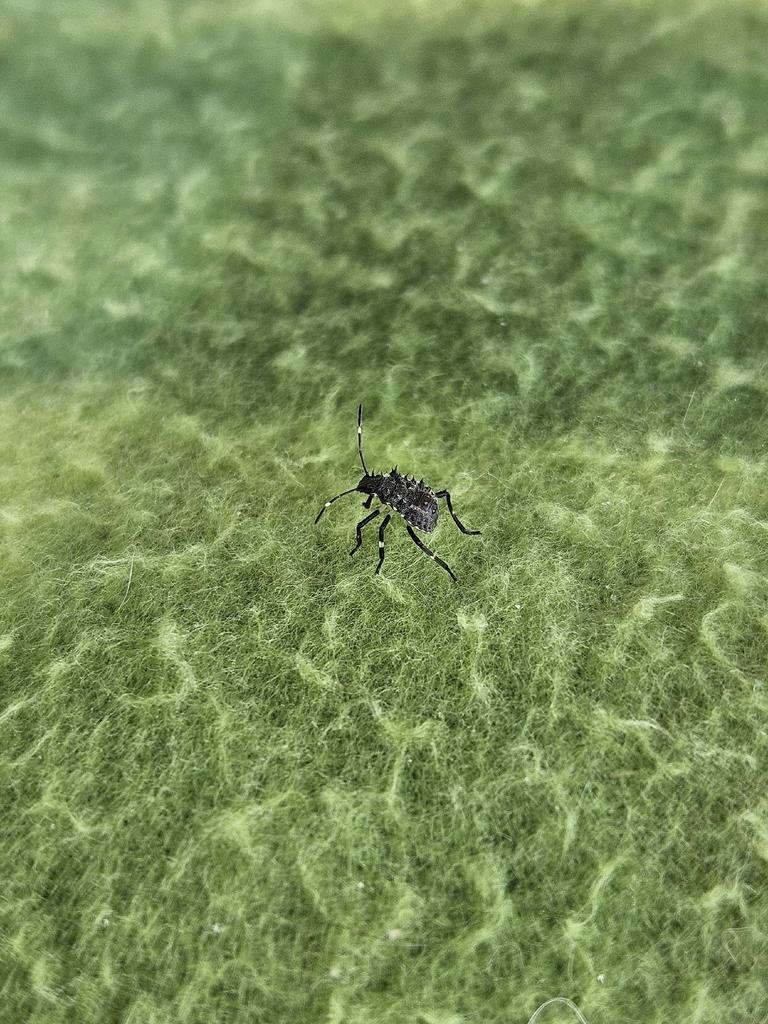stink_bugs: (282, 393, 512, 608)
